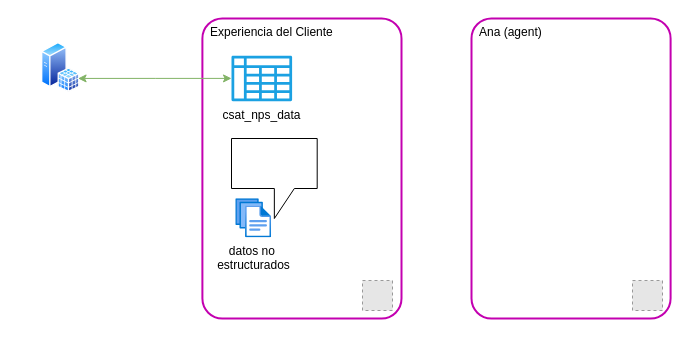
This 689x347 diagram has some shape labels left out. Grey dashed boxes stand in for pictures. Each missing label, with the centre of its shape:
"MCP de MSSQL" belongs at point 60,67.
"Políticas, guías. etc..." belongs at point 273,178.
